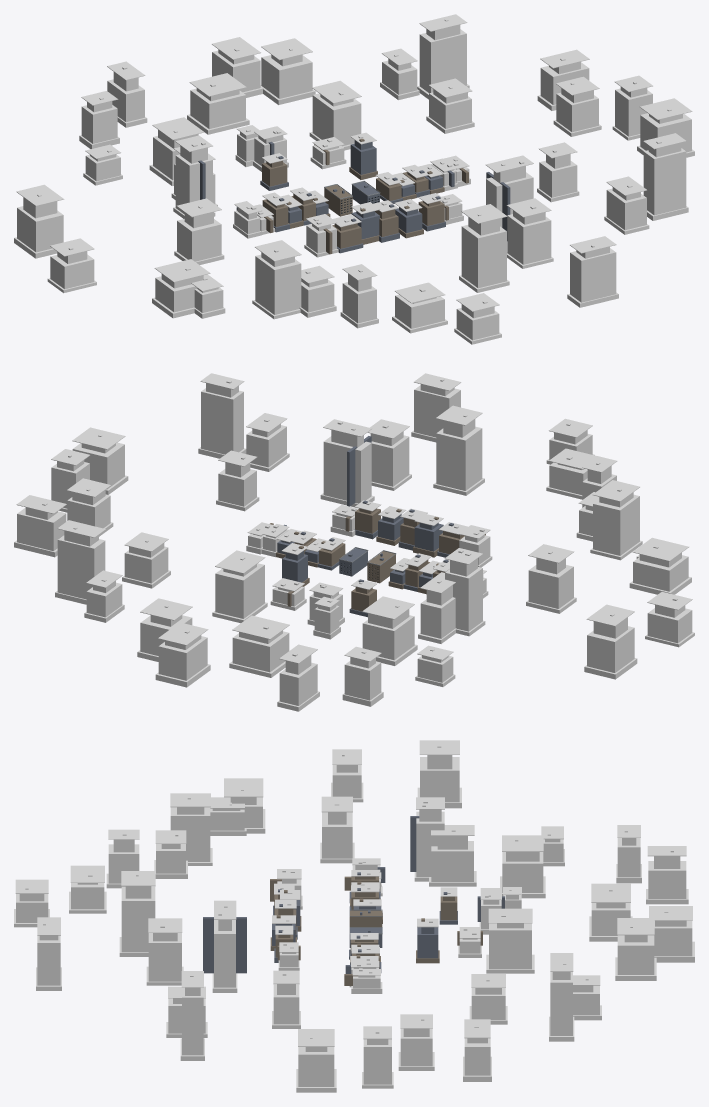
The model's file is login-site-neighbours.glb.
The picture shows the model from 3 angles, top to bottom: view 1: azimuth 30°, elevation 25°; view 2: azimuth 150°, elevation 25°; view 3: azimuth 270°, elevation 25°; orthographic projection. The views are drawn at different scales.
Parts seen in each view (by area): view 1: neighbours-misc, neighbours-conc; view 2: neighbours-misc, neighbours-conc; view 3: neighbours-misc, neighbours-conc.
Boxes of the visible parts, <box> form: neighbours-misc: <box>14,14,694,344</box>; neighbours-conc: <box>324,180,380,216</box>; neighbours-misc: <box>14,373,694,711</box>; neighbours-conc: <box>339,547,396,583</box>; neighbours-misc: <box>14,740,694,1092</box>; neighbours-conc: <box>349,909,382,947</box>.
Size of the model in its own units: 892 by 101 by 837.
